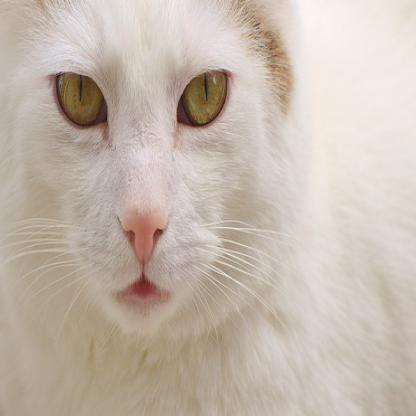cat: (0, 0, 301, 350)
